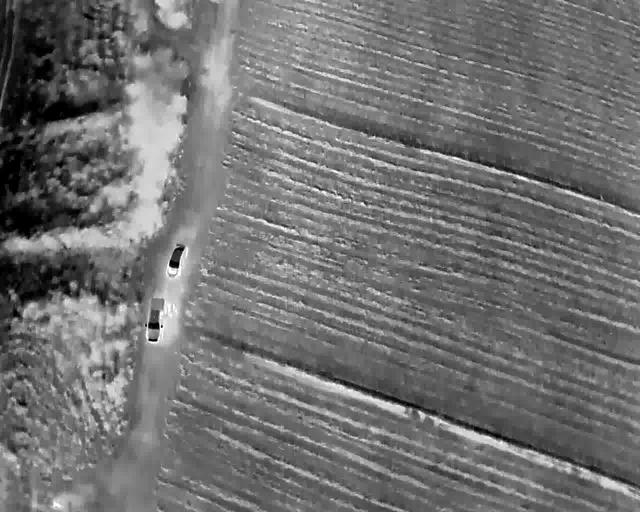car: (146, 297, 164, 343), (168, 244, 185, 279)
person: (51, 501, 62, 508)
